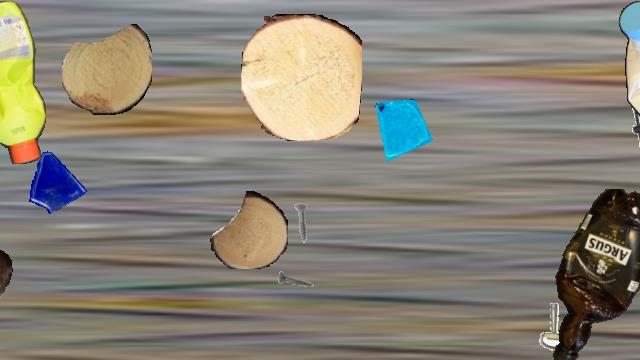glass: (23, 148, 89, 214), (372, 99, 436, 163)
metal: (529, 299, 585, 355), (277, 258, 319, 300), (281, 202, 323, 244), (621, 99, 640, 159)
plastic: (543, 189, 640, 359), (0, 1, 47, 163), (619, 1, 640, 175)
wood: (241, 14, 361, 140), (62, 23, 152, 115), (210, 191, 288, 269), (0, 248, 12, 308)
